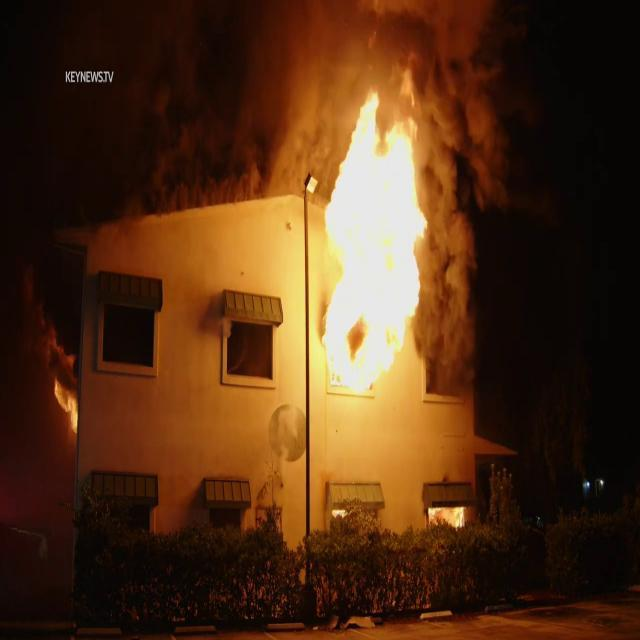Fire: (307, 85, 446, 402), (51, 367, 80, 442)
